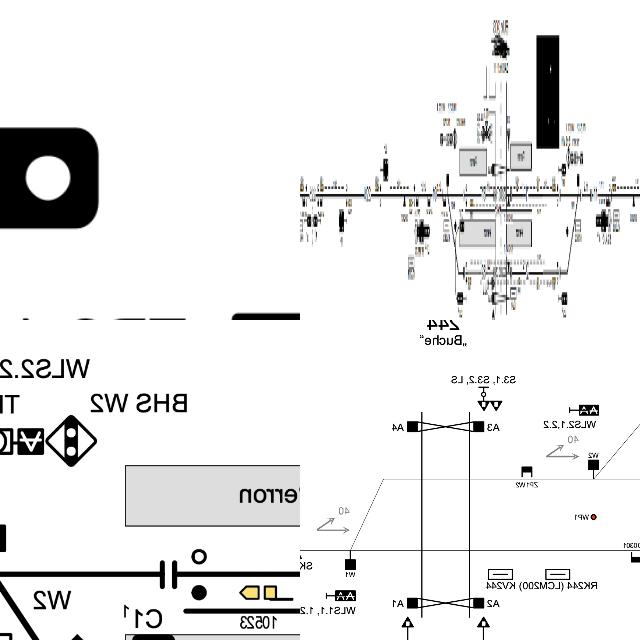mainsignal: (558, 291, 568, 309), (456, 290, 466, 305)
radzaehler: (518, 464, 536, 481), (628, 548, 640, 566), (442, 193, 446, 210), (415, 194, 419, 209), (302, 194, 305, 209), (319, 195, 322, 208), (606, 194, 608, 209), (428, 193, 430, 205)
trackjoint: (150, 560, 184, 592), (462, 264, 465, 280), (559, 264, 561, 280), (493, 264, 495, 280), (510, 267, 512, 282), (493, 189, 495, 204), (462, 189, 464, 204), (590, 190, 592, 203), (559, 190, 561, 203), (580, 192, 582, 202), (510, 189, 512, 199)
tracknumber: (363, 182, 373, 206), (308, 183, 316, 205), (593, 184, 598, 204), (432, 184, 437, 204), (481, 185, 486, 203), (481, 263, 486, 281), (525, 183, 529, 205), (526, 258, 529, 286)
weiche: (0, 520, 13, 580), (584, 456, 602, 486), (343, 547, 359, 573), (576, 173, 580, 195), (446, 172, 449, 196)
